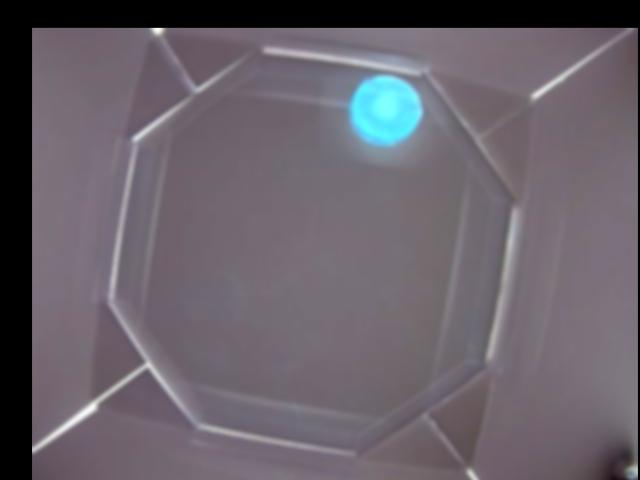Carrot: (350, 76, 423, 143)
